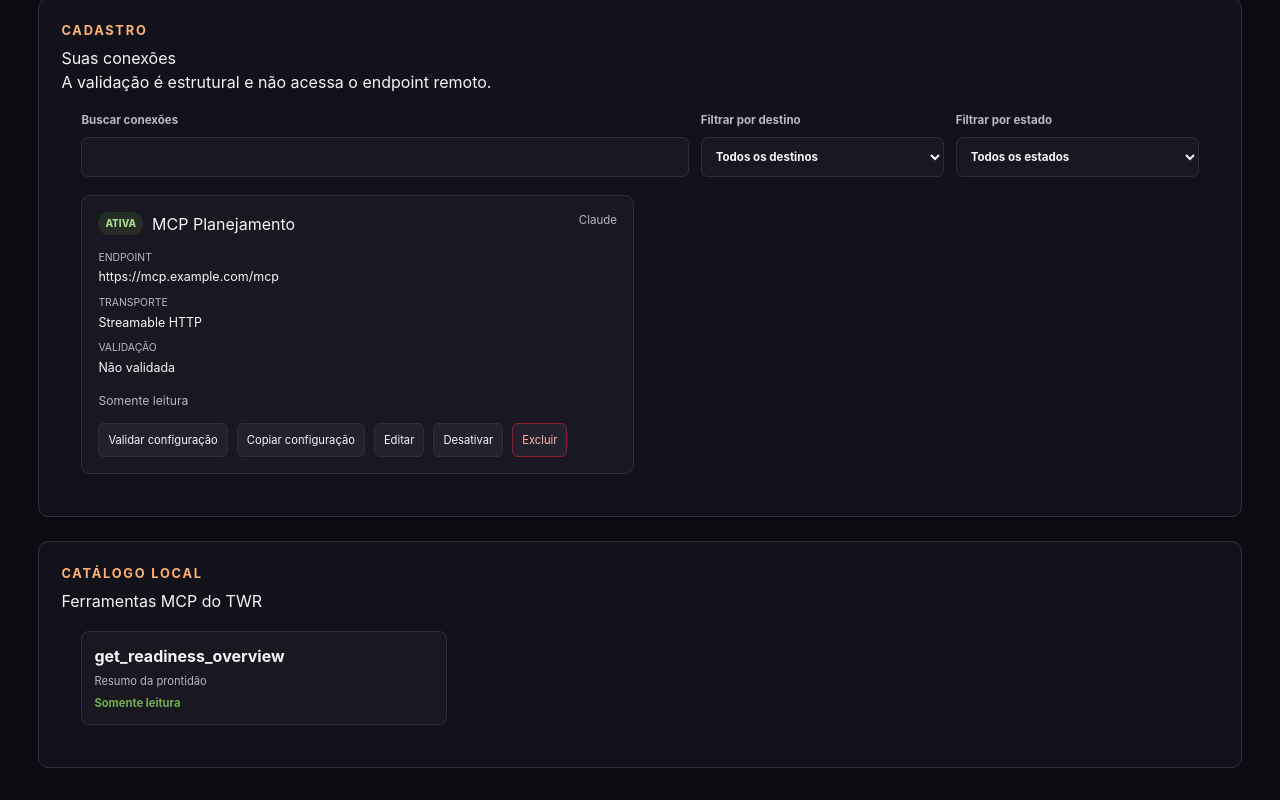
Scenario: McpConnectionsPage › transitions to login-required state when edit returns 401
(page scrolled)
expect the heading "MCP Planejamento" is shown: met, box [152,212,295,236]
What coordinates should you click on to do the following:
click the button with aria-label "Editar MCP Planejamento"
I would click on:
 (399, 440)
Its box is [374,423,424,457].
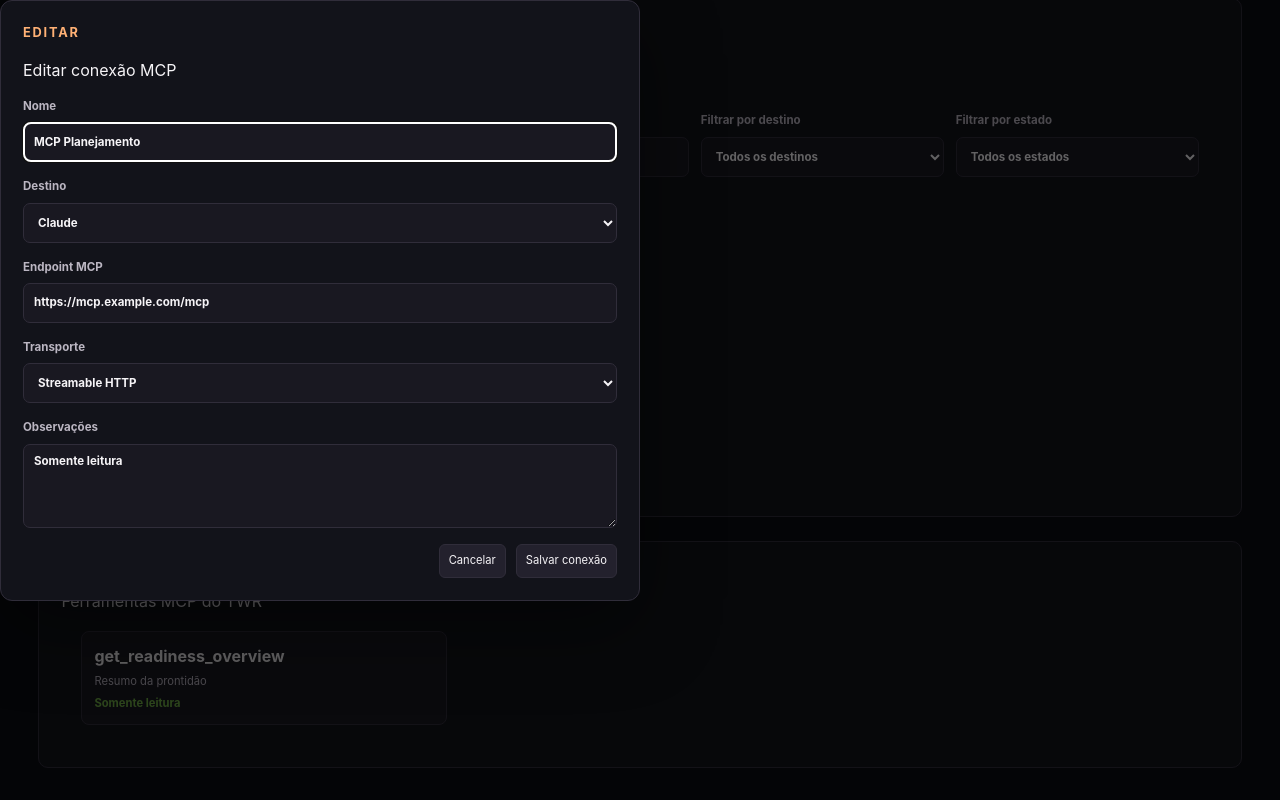
What coordinates should you click on to do the following:
click the button "Salvar conexão"
I would click on:
 (566, 560)
Its box is [516,544,617,578].
(page scrolled)
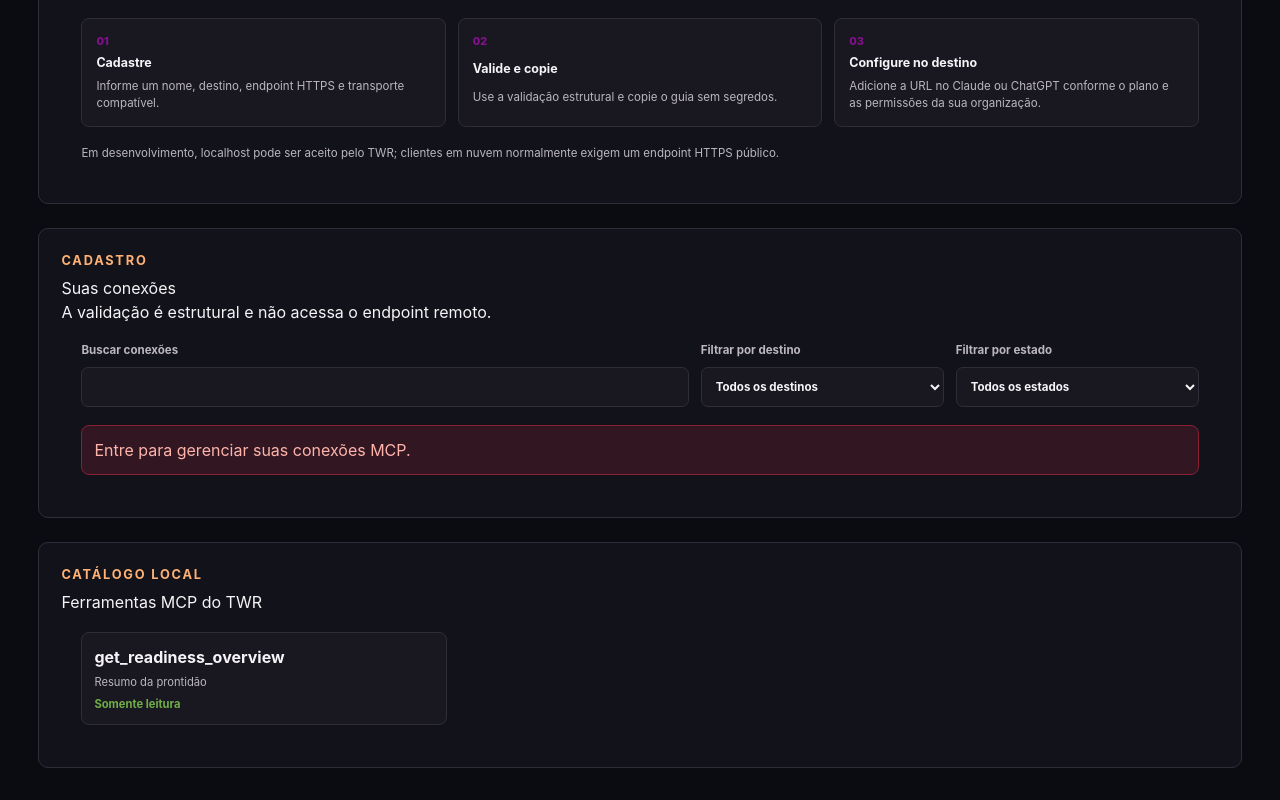
expect the text "Entre para gerenciar suas conexões MCP." is shown: met, box [81,425,1199,475]
expect the dialog is gone: met
